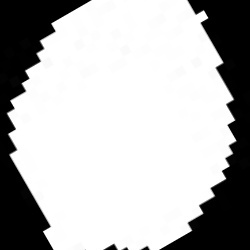spot: (5, 2, 236, 249)
